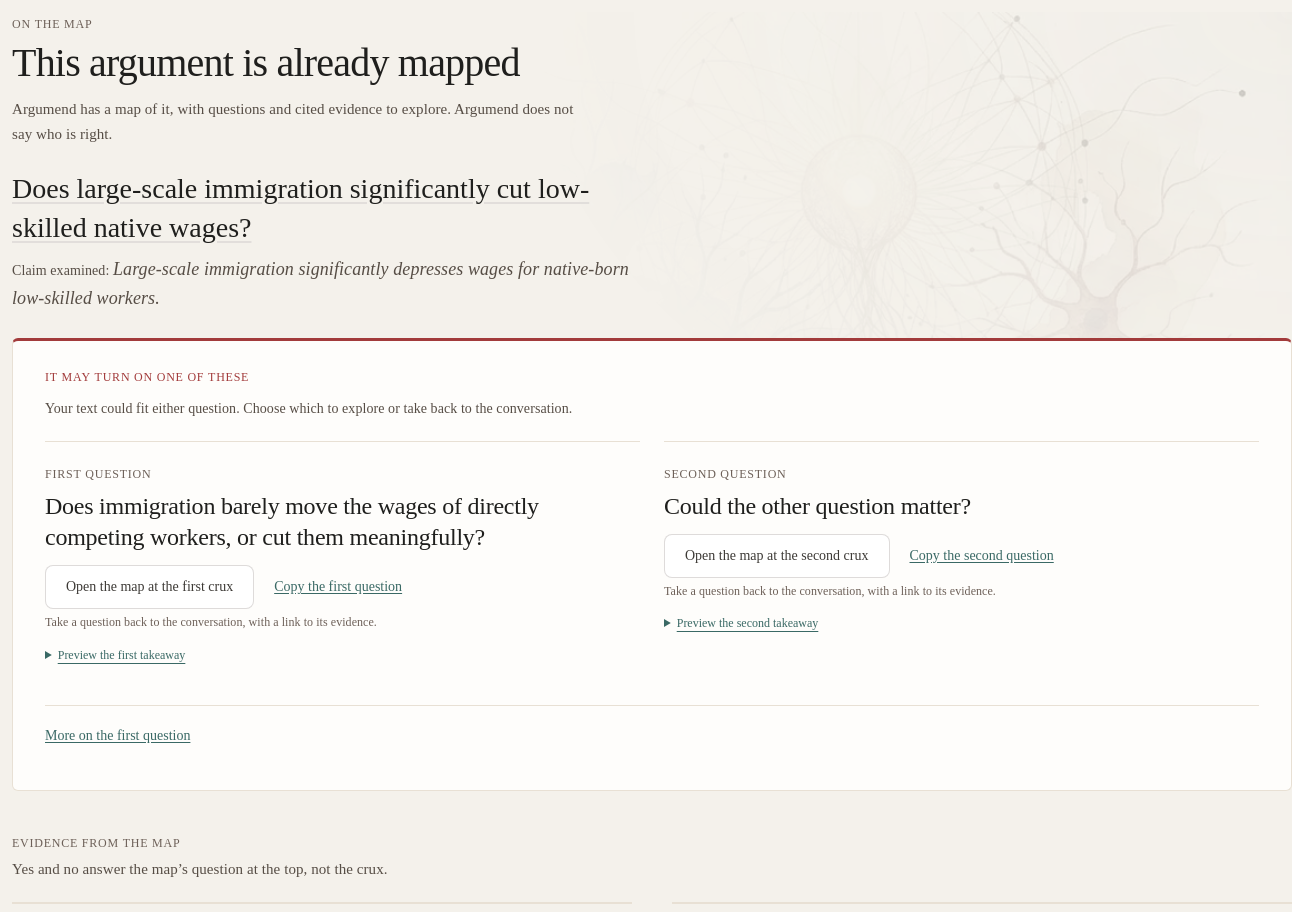
Test case: the map block on a phone › previews and copies either plausible crux without mixing their questions or links
What coordinates should you click on to do the following:
click the button "Copy the first question"
I would click on:
 (338, 587)
Its box is [274, 565, 402, 609].
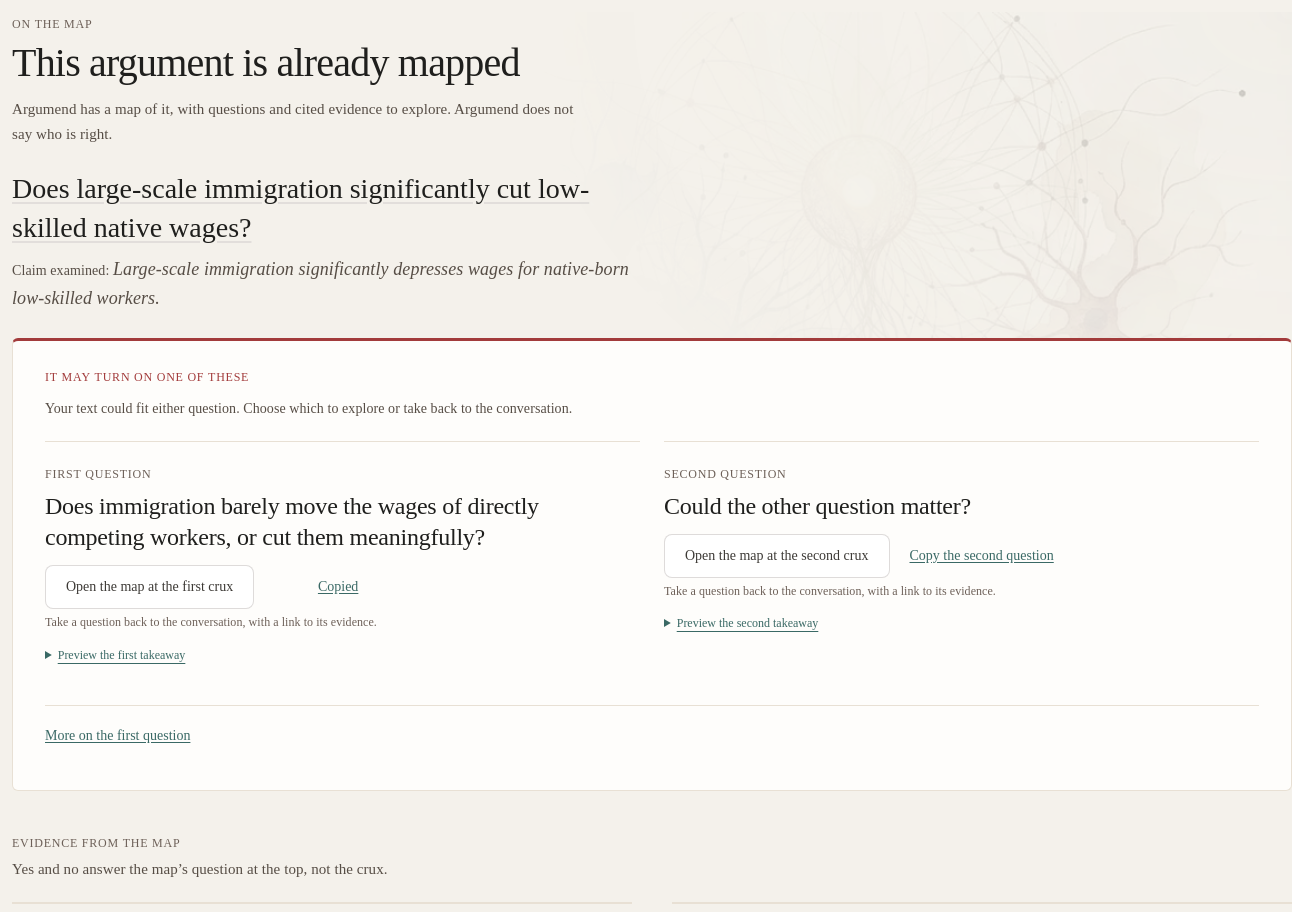
Now the button "Copied" is shown, box [274, 565, 402, 609]
What coordinates should you click on to do the following:
click the button "Copy the second question"
I would click on:
 (982, 556)
Its box is [910, 534, 1054, 578].
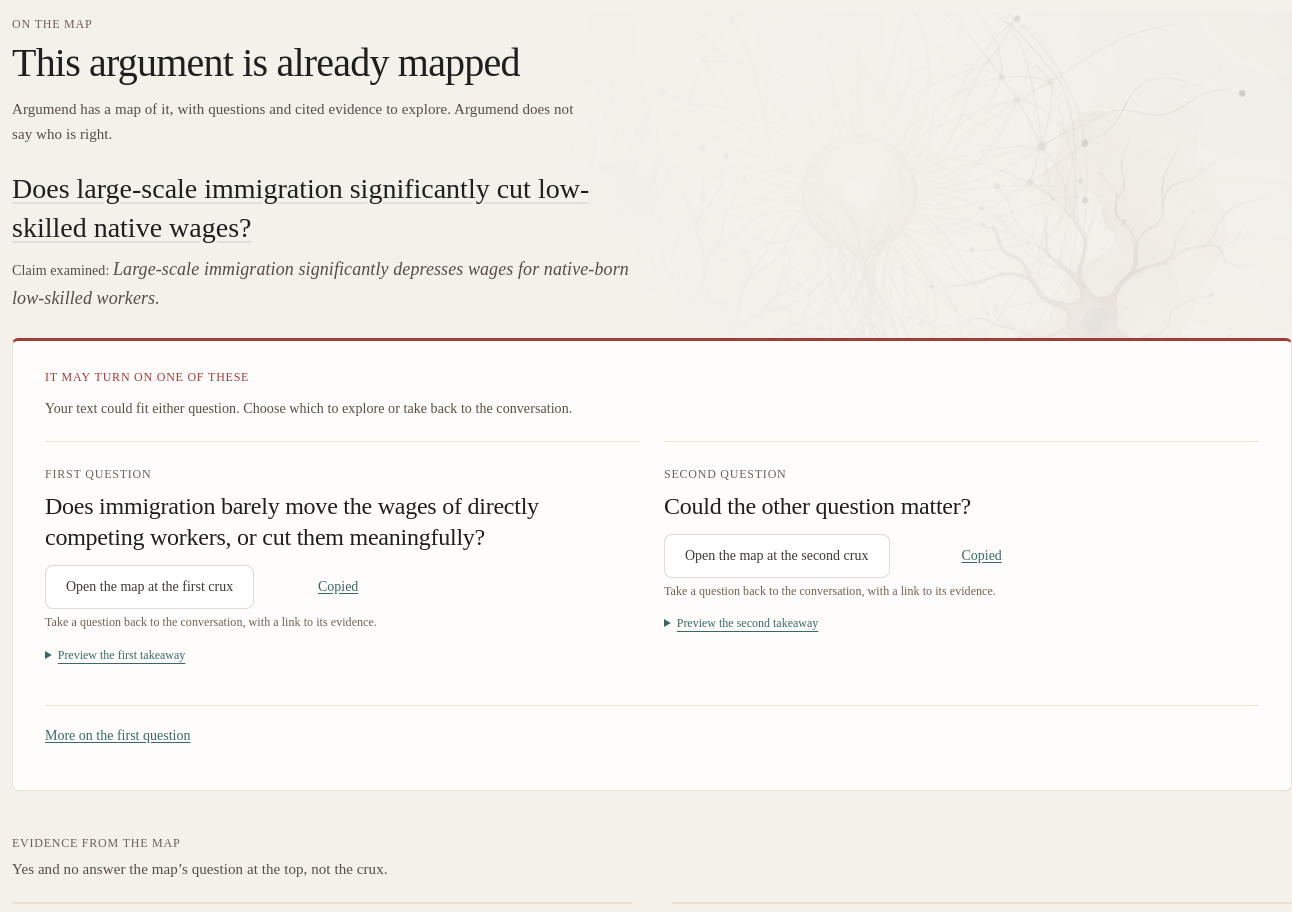
Expected: the heading "Evidence from the map" is shown, [12, 832, 180, 851]
Now the button "Copied" next to "Open the map at the second crux" is shown, box [910, 534, 1054, 578]
